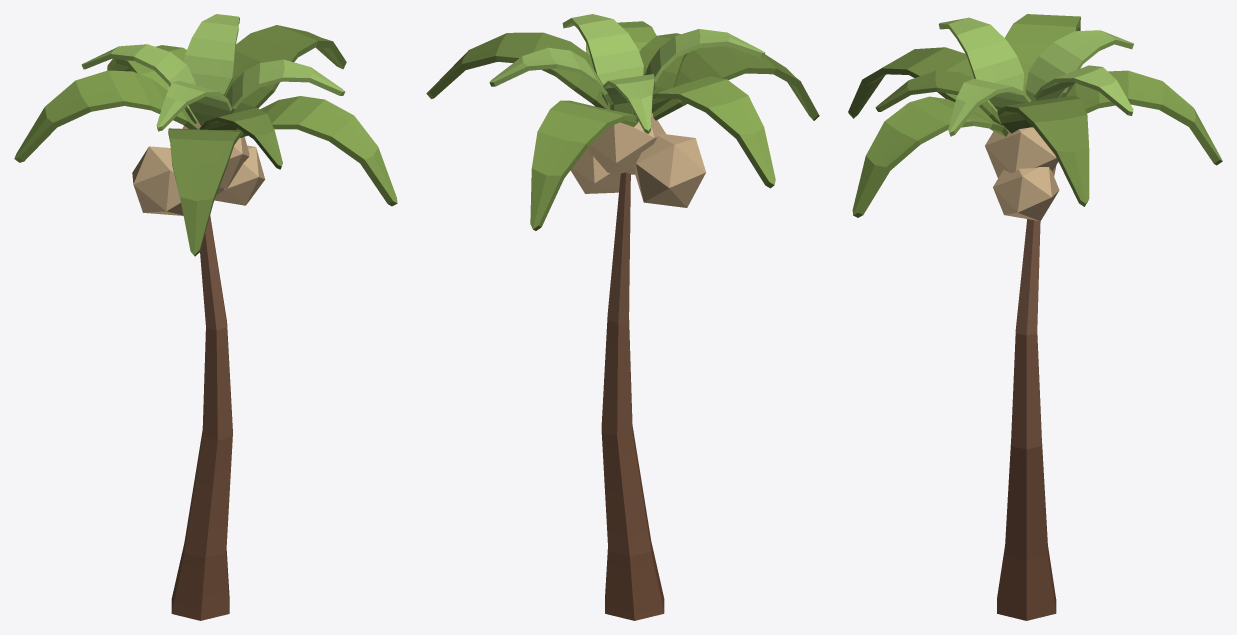
Rendered from palm_1.fbx.
3 views of the same model, side by side, from view 1: azimuth 30°, elevation 25°; view 2: azimuth 150°, elevation 25°; view 3: azimuth 270°, elevation 25° (orthographic). The views are drawn at different scales.
Parts seen in each view (by area): view 1: palm_1; view 2: palm_1; view 3: palm_1.
Boxes of the visible parts, left/top/right/bottom form: palm_1: left=14, top=14, right=397, bottom=620; palm_1: left=426, top=14, right=819, bottom=620; palm_1: left=848, top=14, right=1222, bottom=620.
Bounding box in the file's own units: 390 × 608 × 370.
